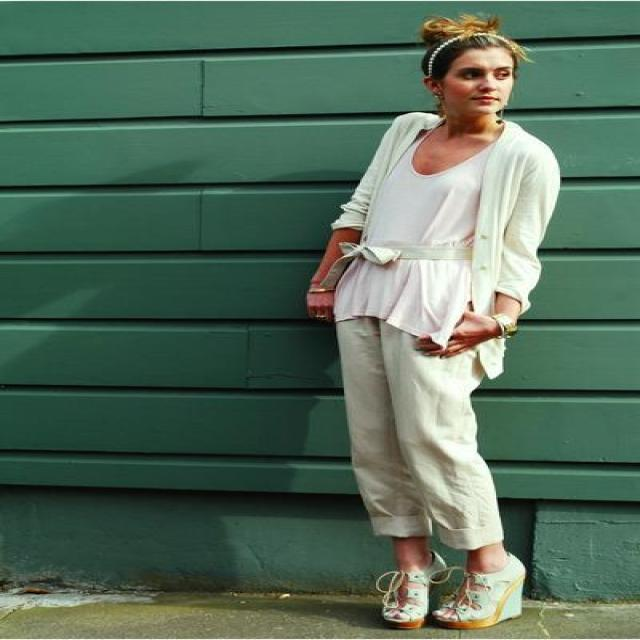pants: (338, 314, 504, 554)
shirt: (333, 112, 560, 370)
shoe: (376, 550, 538, 625)
